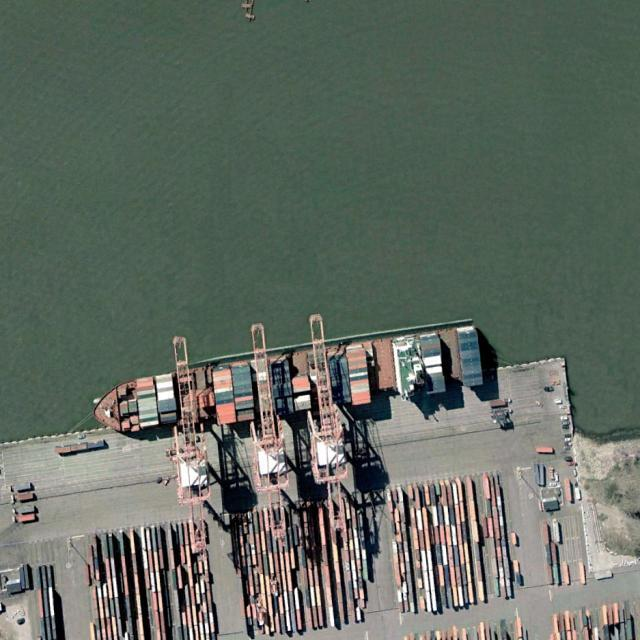Container Ship: (87, 316, 484, 444)
